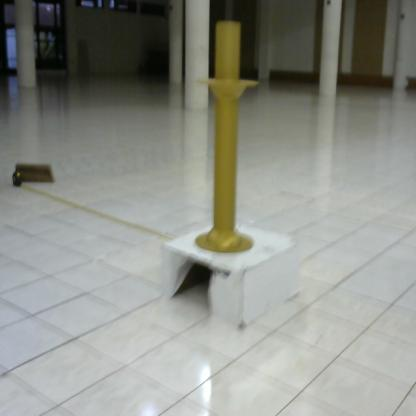pole: (194, 14, 265, 262)
